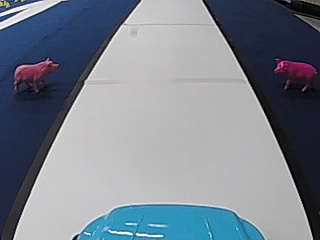pig: (11, 56, 59, 94), (269, 55, 317, 90)
